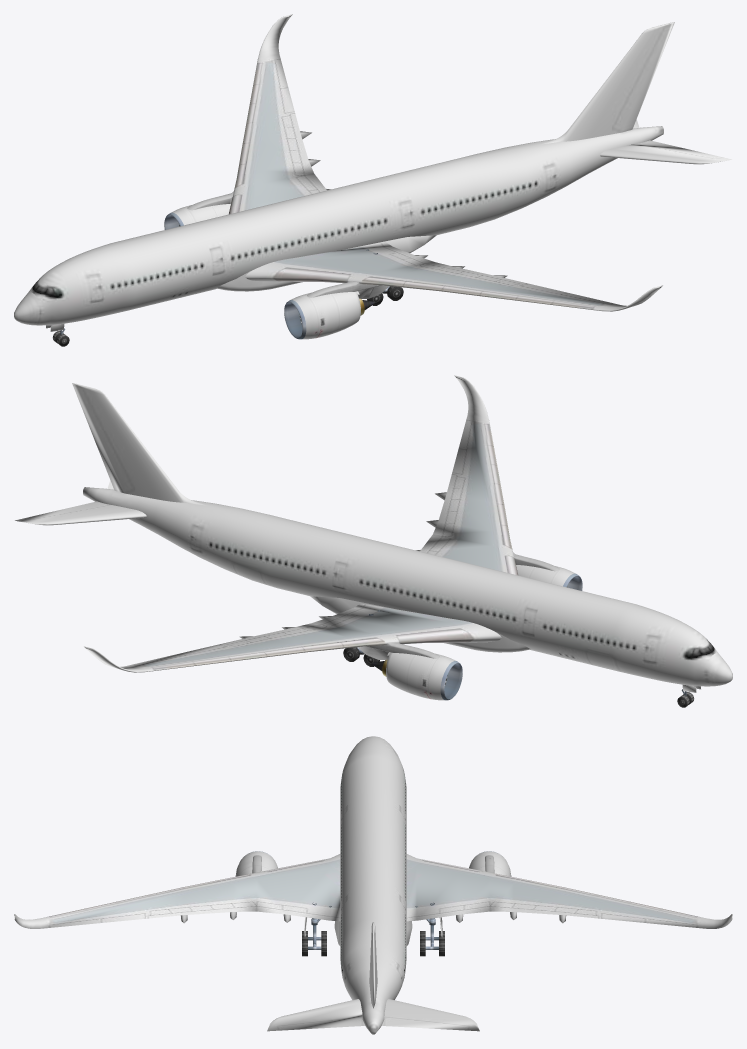
The picture shows the model from 3 angles, top to bottom: view 1: azimuth 30°, elevation 25°; view 2: azimuth 150°, elevation 25°; view 3: azimuth 270°, elevation 25°; orthographic projection. The views are drawn at different scales.
Parts seen in each view (by area): view 1: airframe, gear; view 2: airframe, gear; view 3: airframe, gear.
Part boxes in pixels (x1=…): airframe: x1=14, y1=14, x2=731, y2=339; gear: x1=46, y1=249, x2=403, y2=346; airframe: x1=15, y1=375, x2=732, y2=700; gear: x1=343, y1=610, x2=700, y2=707; airframe: x1=14, y1=736, x2=732, y2=1034; gear: x1=302, y1=902, x2=444, y2=956.
Size of the model in its own units: 66.77 by 16.85 by 64.63.
Materials: 1 (1 with a texture image).
